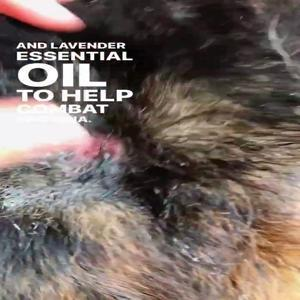skin_lesions: (73, 130, 119, 166)
